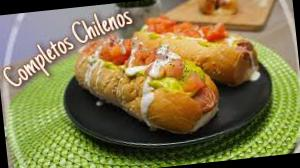Completos: (74, 29, 220, 135), (132, 2, 262, 102)
